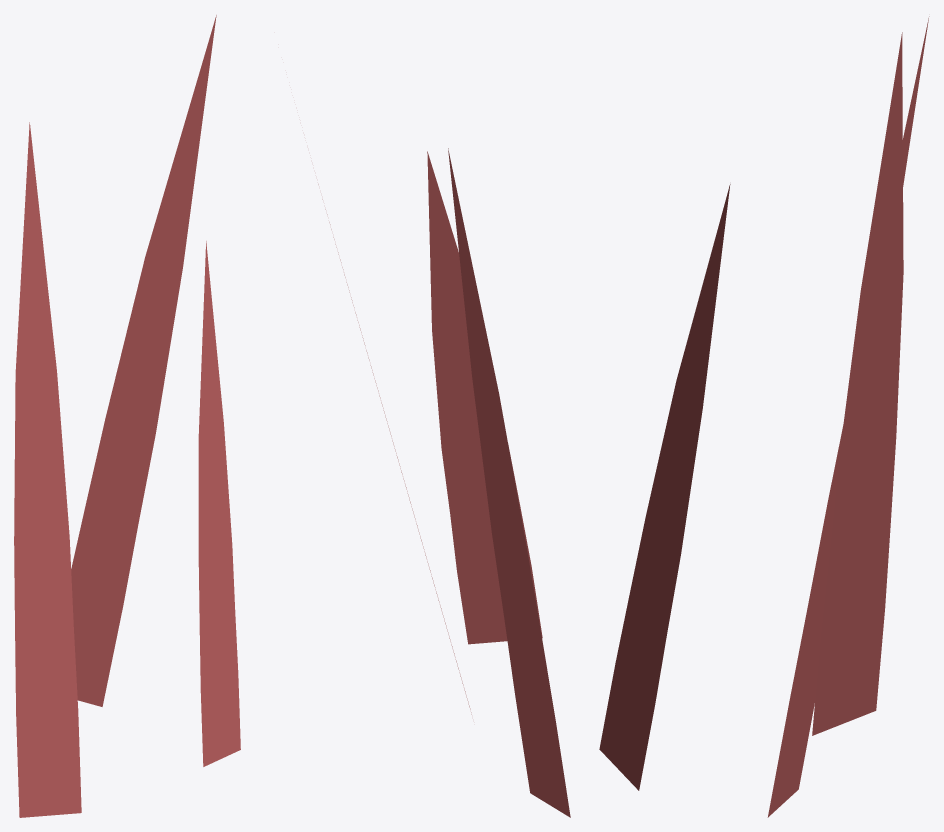
The model's file is GrassVertexDetailed 1.fbx.
3 views of the same model, side by side, from view 1: azimuth 30°, elevation 25°; view 2: azimuth 150°, elevation 25°; view 3: azimuth 270°, elevation 25° (orthographic). The views are drawn at different scales.
Visible parts, largest first — view 1: GRASS BLADE MINE7a, GRASS BLADE MINE7a (2), GRASS BLADE MINE7a (1); view 2: GRASS BLADE MINE7a, GRASS BLADE MINE7a (1); view 3: GRASS BLADE MINE7a (2), GRASS BLADE MINE7a (1), GRASS BLADE MINE7a.
Boxes of the visible parts, box(x1,y1,x2,y2) form: GRASS BLADE MINE7a: box(14, 122, 81, 817); GRASS BLADE MINE7a (2): box(71, 15, 216, 706); GRASS BLADE MINE7a (1): box(198, 241, 240, 766); GRASS BLADE MINE7a: box(448, 148, 570, 817); GRASS BLADE MINE7a (1): box(427, 151, 542, 644); GRASS BLADE MINE7a (2): box(812, 32, 903, 735); GRASS BLADE MINE7a (1): box(599, 184, 730, 790); GRASS BLADE MINE7a: box(767, 16, 929, 817).
Bounding box in the file's own units: 2.79 × 8.01 × 2.65.
